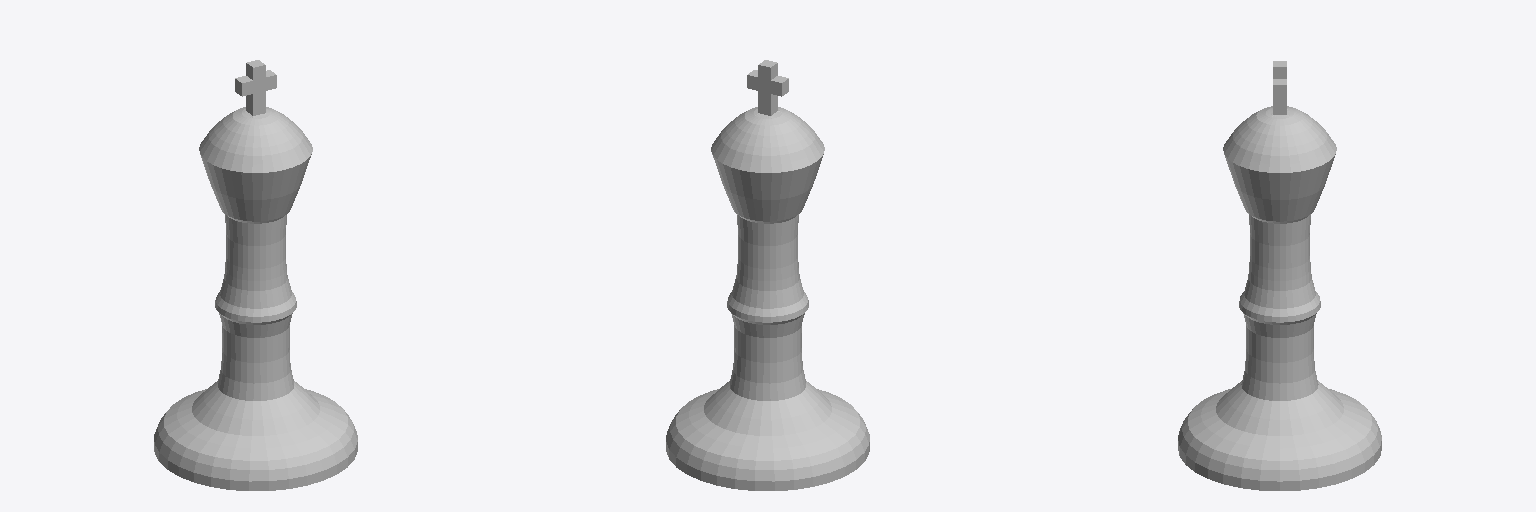
Rendered from King Chess Piece.obj.
3 renders of one model, left to right at view 1: azimuth 30°, elevation 25°; view 2: azimuth 150°, elevation 25°; view 3: azimuth 270°, elevation 25°, orthographic.
Parts seen in each view (by area): view 1: Cylinder; view 2: Cylinder; view 3: Cylinder.
Boxes of the visible parts, <box> form: Cylinder: <box>154,60,357,490</box>; Cylinder: <box>666,60,869,490</box>; Cylinder: <box>1178,61,1381,490</box>.
Size of the model in its own units: 2 by 4.15 by 2.